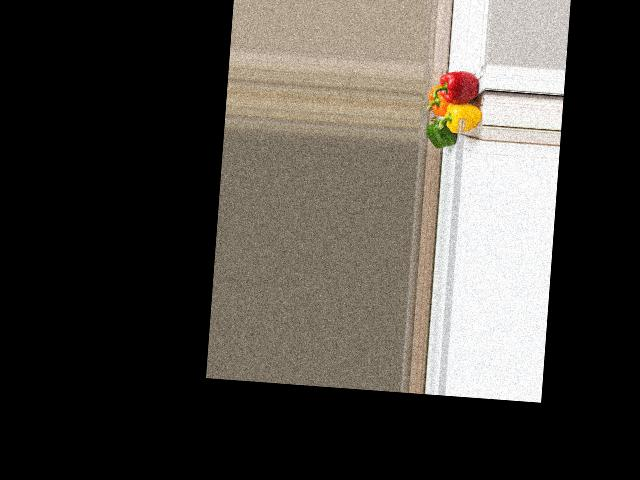bell_pepper: (426, 83, 451, 118)
